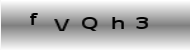3: (134, 15, 150, 30)
Q: (80, 16, 98, 33)
V: (52, 18, 71, 32)
f: (29, 11, 39, 27)
h: (111, 16, 126, 30)
